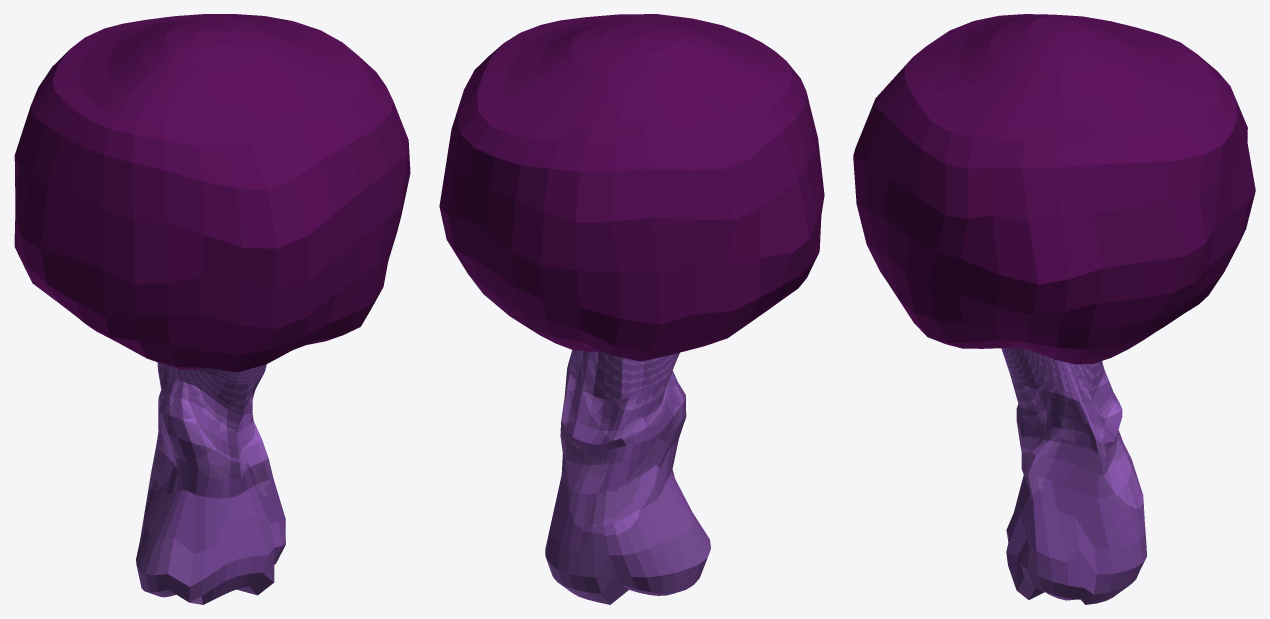
Rendered from tree1.glb.
The picture shows the model from 3 angles, left to right: view 1: azimuth 30°, elevation 25°; view 2: azimuth 150°, elevation 25°; view 3: azimuth 270°, elevation 25°; orthographic projection. The views are drawn at different scales.
Visible parts, largest first — view 1: Esfera UV; view 2: Esfera UV; view 3: Esfera UV.
Boxes of the visible parts, bbox=[...] form: Esfera UV: bbox=[14, 14, 410, 604]; Esfera UV: bbox=[439, 14, 824, 604]; Esfera UV: bbox=[853, 14, 1255, 604].
Bounding box in the file's own units: 15.47 × 22.95 × 15.21.
Materials: 2 (1 with a texture image).
